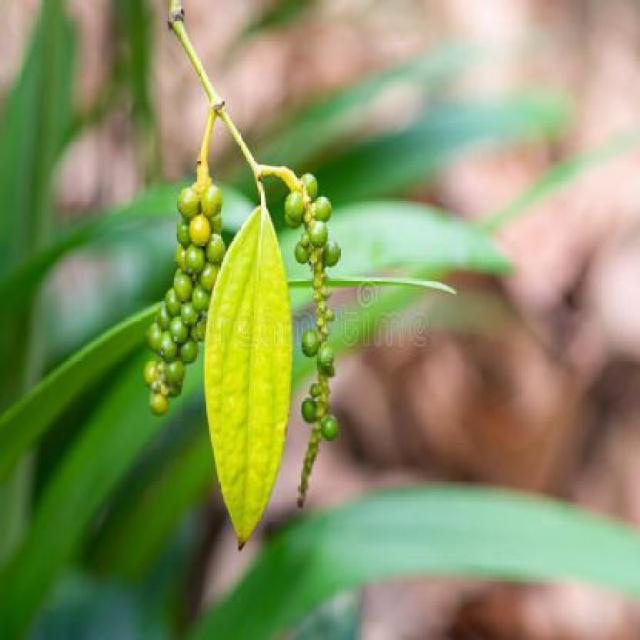UNRIPE: (139, 142, 224, 440), (276, 175, 347, 518)
